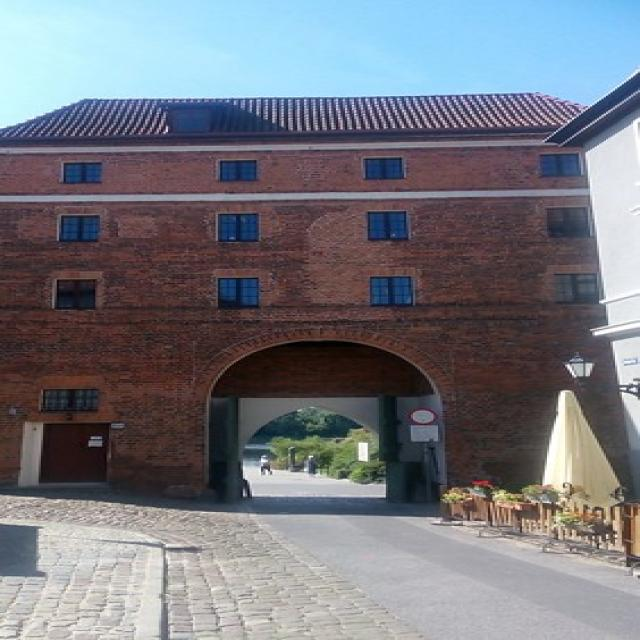building: (7, 90, 631, 510)
